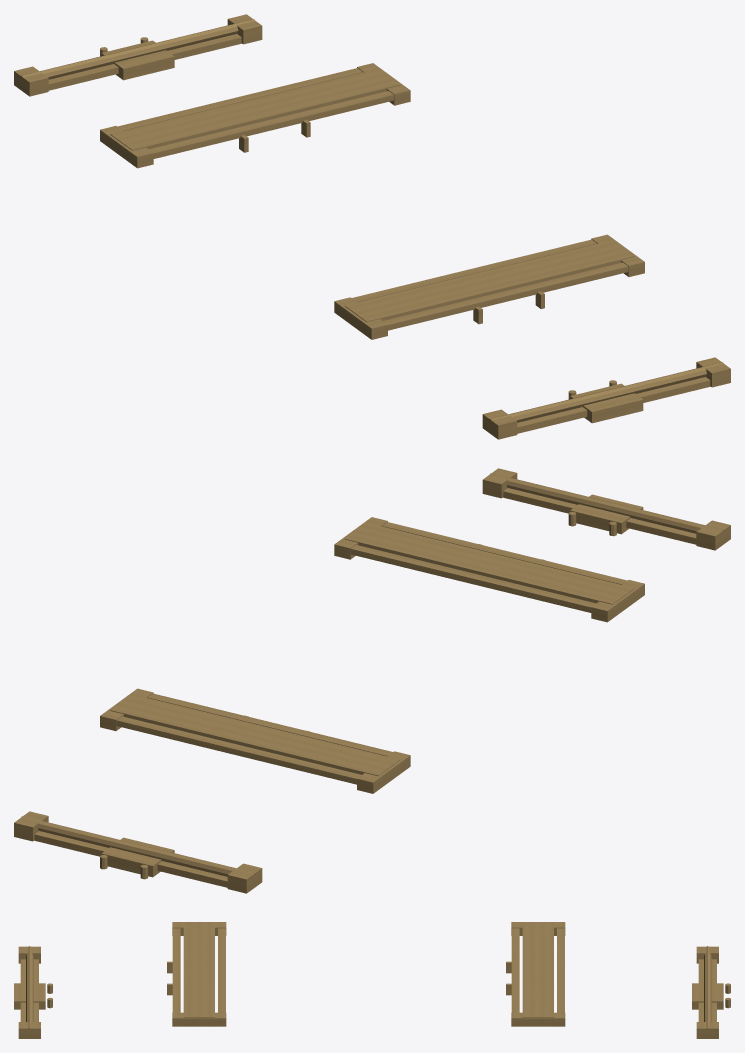
File: AST-TRM-G4-028_steering_bogie_hardware_r001.glb
3 renders of one model, top to bottom at view 1: azimuth 30°, elevation 25°; view 2: azimuth 150°, elevation 25°; view 3: azimuth 270°, elevation 25°, orthographic. The views are drawn at different scales.
Parts seen in each view (by area): view 1: Bolster_Fixed_FloorLap_-1.5, Bolster_Fixed_FloorLap_1.5, Bolster_Fixed_SlideGuide_(-1.5, 0.2), Bolster_Fixed_SlideGuide_(1.5, 0.2), Bogie_Original_Axle_1.5, Bogie_Original_Axle_-1.5, Bogie_Transverse_Frame_-1.5, Bogie_Transverse_Frame_1.5, Bolster_Fixed_SlideGuide_(-1.5, -0.2), Bolster_Fixed_SlideGuide_(1.5, -0.2), Bogie_CrossSlide_Carriage_1.5, Bogie_CrossSlide_Carriage_-1.5 (+4 smaller); view 2: Bolster_Fixed_FloorLap_1.5, Bolster_Fixed_FloorLap_-1.5, Bolster_Fixed_SlideGuide_(-1.5, -0.2), Bolster_Fixed_SlideGuide_(1.5, -0.2), Bogie_Original_Axle_-1.5, Bogie_Original_Axle_1.5, Bogie_Transverse_Frame_-1.5, Bogie_Transverse_Frame_1.5, Bolster_Fixed_SlideGuide_(-1.5, 0.2), Bolster_Fixed_SlideGuide_(1.5, 0.2), Bogie_CrossSlide_Carriage_-1.5, Bogie_CrossSlide_Carriage_1.5 (+4 smaller); view 3: Bolster_Fixed_FloorLap_-1.5, Bolster_Fixed_FloorLap_1.5, Bolster_Fixed_SlideGuide_(-1.5, 0.2), Bolster_Fixed_SlideGuide_(1.5, 0.2), Bolster_Fixed_SlideGuide_(-1.5, -0.2), Bolster_Fixed_SlideGuide_(1.5, -0.2), Bolster_Fixed_EndShoe_(1.5, 0.95), Bolster_Fixed_EndShoe_(-1.5, 0.95), Bogie_Original_Axle_1.5, Bogie_Original_Axle_-1.5, Bogie_CrossSlide_Carriage_-1.5, Bogie_CrossSlide_Carriage_1.5 (+8 smaller).
Part boxes in pixels (box(x1,y1,x2,y2)): Bolster_Fixed_FloorLap_-1.5: box(110, 68, 399, 150); Bolster_Fixed_FloorLap_1.5: box(345, 240, 634, 322); Bolster_Fixed_SlideGuide_(-1.5, 0.2): box(133, 91, 393, 162); Bolster_Fixed_SlideGuide_(1.5, 0.2): box(366, 262, 628, 330); Bogie_Original_Axle_1.5: box(488, 362, 723, 428); Bogie_Original_Axle_-1.5: box(19, 19, 254, 85); Bogie_Transverse_Frame_-1.5: box(48, 34, 241, 90); Bogie_Transverse_Frame_1.5: box(517, 377, 710, 433); Bolster_Fixed_SlideGuide_(-1.5, -0.2): box(100, 68, 362, 139); Bolster_Fixed_SlideGuide_(1.5, -0.2): box(334, 239, 597, 311); Bogie_CrossSlide_Carriage_1.5: box(570, 383, 643, 423); Bogie_CrossSlide_Carriage_-1.5: box(101, 40, 174, 80); Bolster_Fixed_FloorLap_1.5: box(345, 522, 634, 604); Bolster_Fixed_FloorLap_-1.5: box(110, 694, 399, 776); Bolster_Fixed_SlideGuide_(-1.5, -0.2): box(116, 716, 378, 785); Bolster_Fixed_SlideGuide_(1.5, -0.2): box(351, 545, 610, 616); Bogie_Original_Axle_-1.5: box(21, 816, 257, 882); Bogie_Original_Axle_1.5: box(490, 473, 725, 535); Bogie_Transverse_Frame_-1.5: box(34, 831, 227, 887); Bogie_Transverse_Frame_1.5: box(503, 488, 696, 544); Bolster_Fixed_SlideGuide_(-1.5, 0.2): box(147, 693, 410, 765); Bolster_Fixed_SlideGuide_(1.5, 0.2): box(382, 522, 641, 593); Bogie_CrossSlide_Carriage_-1.5: box(101, 837, 174, 877); Bogie_CrossSlide_Carriage_1.5: box(570, 494, 643, 534); Bolster_Fixed_FloorLap_-1.5: box(522, 922, 553, 1017); Bolster_Fixed_FloorLap_1.5: box(183, 922, 214, 1017); Bolster_Fixed_SlideGuide_(-1.5, 0.2): box(511, 928, 519, 1022); Bolster_Fixed_SlideGuide_(1.5, 0.2): box(172, 928, 180, 1022); Bolster_Fixed_SlideGuide_(-1.5, -0.2): box(557, 928, 564, 1022); Bolster_Fixed_SlideGuide_(1.5, -0.2): box(218, 928, 225, 1022); Bolster_Fixed_EndShoe_(1.5, 0.95): box(172, 1012, 226, 1026); Bolster_Fixed_EndShoe_(-1.5, 0.95): box(511, 1012, 565, 1026); Bogie_Original_Axle_1.5: box(26, 946, 33, 1034); Bogie_Original_Axle_-1.5: box(704, 946, 711, 1034); Bogie_CrossSlide_Carriage_-1.5: box(692, 983, 723, 1009); Bogie_CrossSlide_Carriage_1.5: box(14, 983, 45, 1009).
Size of the model in its own units: 2.02 by 0.3 by 6.34.
Materials: 1 (1 with a texture image).
